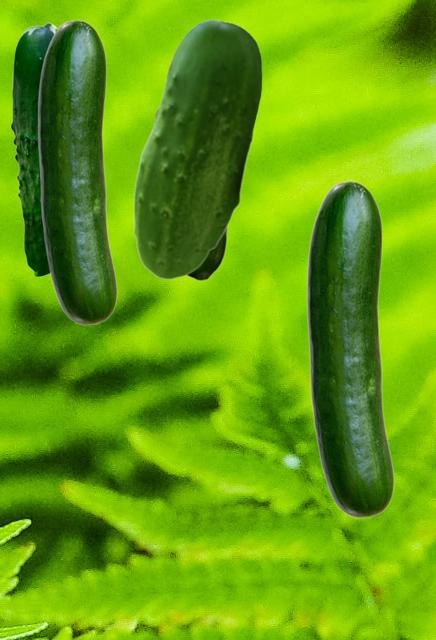cucumber: (133, 19, 261, 279), (306, 180, 393, 517), (37, 19, 116, 324), (10, 22, 57, 276), (187, 229, 227, 280)
